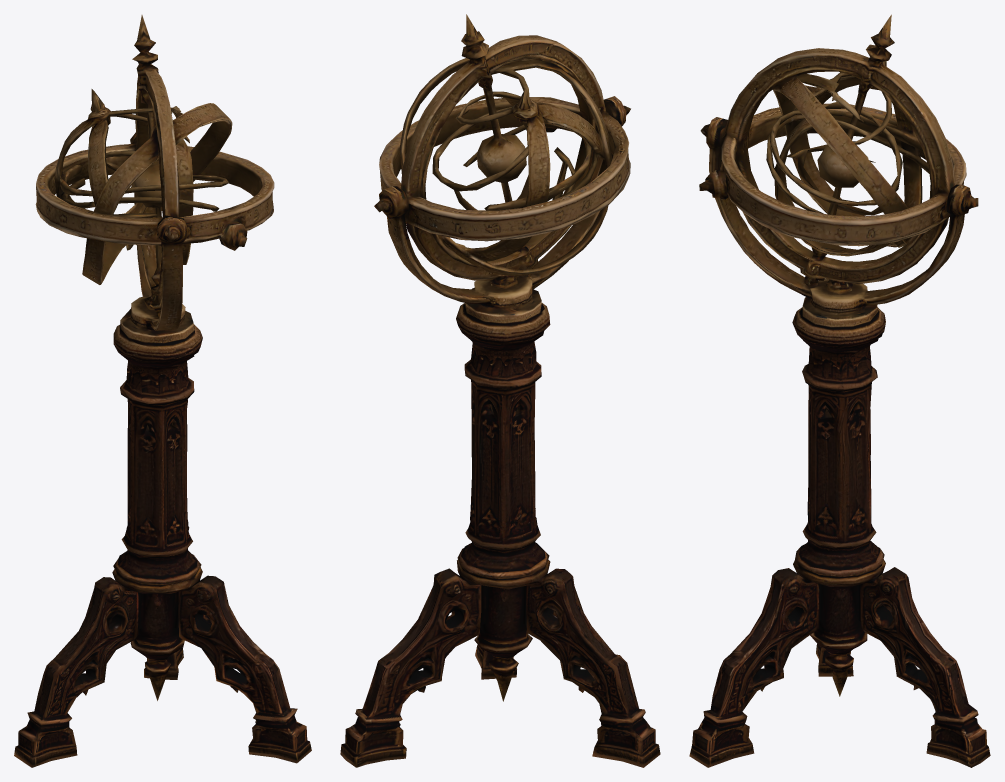
Rendered from raw_globe.glb.
The picture shows the model from 3 angles, left to right: view 1: azimuth 30°, elevation 25°; view 2: azimuth 150°, elevation 25°; view 3: azimuth 270°, elevation 25°; orthographic projection. The views are drawn at different scales.
Parts seen in each view (by area): view 1: tripo_node_c20133d8-0696-466b-89ea-76c9d434bd7d; view 2: tripo_node_c20133d8-0696-466b-89ea-76c9d434bd7d; view 3: tripo_node_c20133d8-0696-466b-89ea-76c9d434bd7d.
Boxes of the visible parts, x1=… form: tripo_node_c20133d8-0696-466b-89ea-76c9d434bd7d: x1=14, y1=15, x2=311, y2=767; tripo_node_c20133d8-0696-466b-89ea-76c9d434bd7d: x1=340, y1=14, x2=660, y2=767; tripo_node_c20133d8-0696-466b-89ea-76c9d434bd7d: x1=689, y1=14, x2=990, y2=767.
Size of the model in its own units: 0.3638 by 1 by 0.3825.
1 material, 1 textured.
